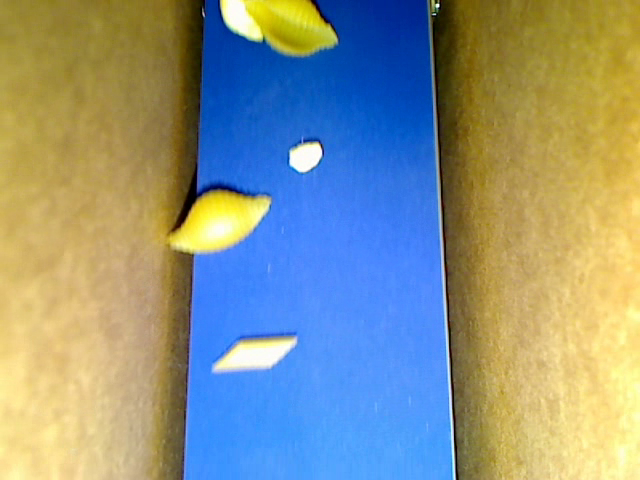penne: (214, 336, 297, 370)
shell: (165, 186, 272, 254), (242, 1, 339, 58)
